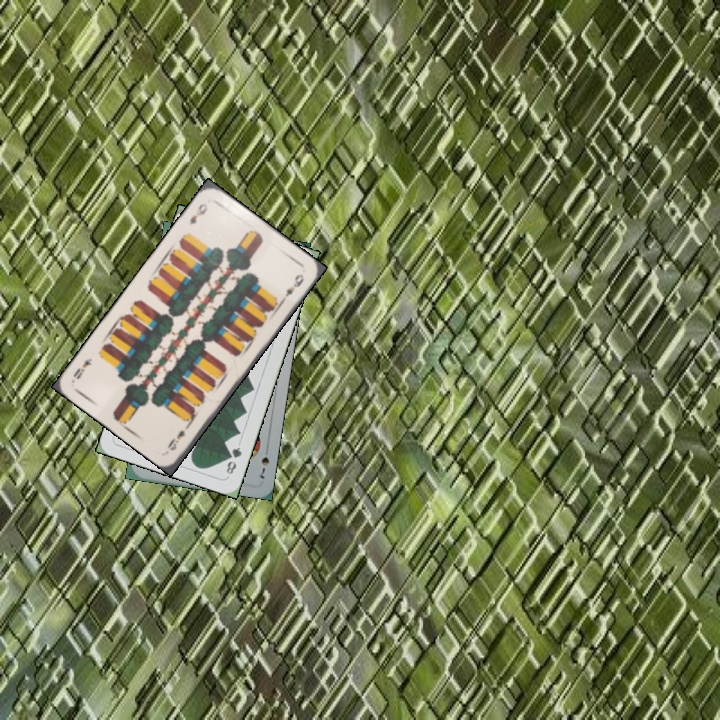E9: (163, 419, 193, 453), (185, 199, 210, 227)
G8: (222, 443, 244, 477)
S7: (256, 442, 272, 481)
